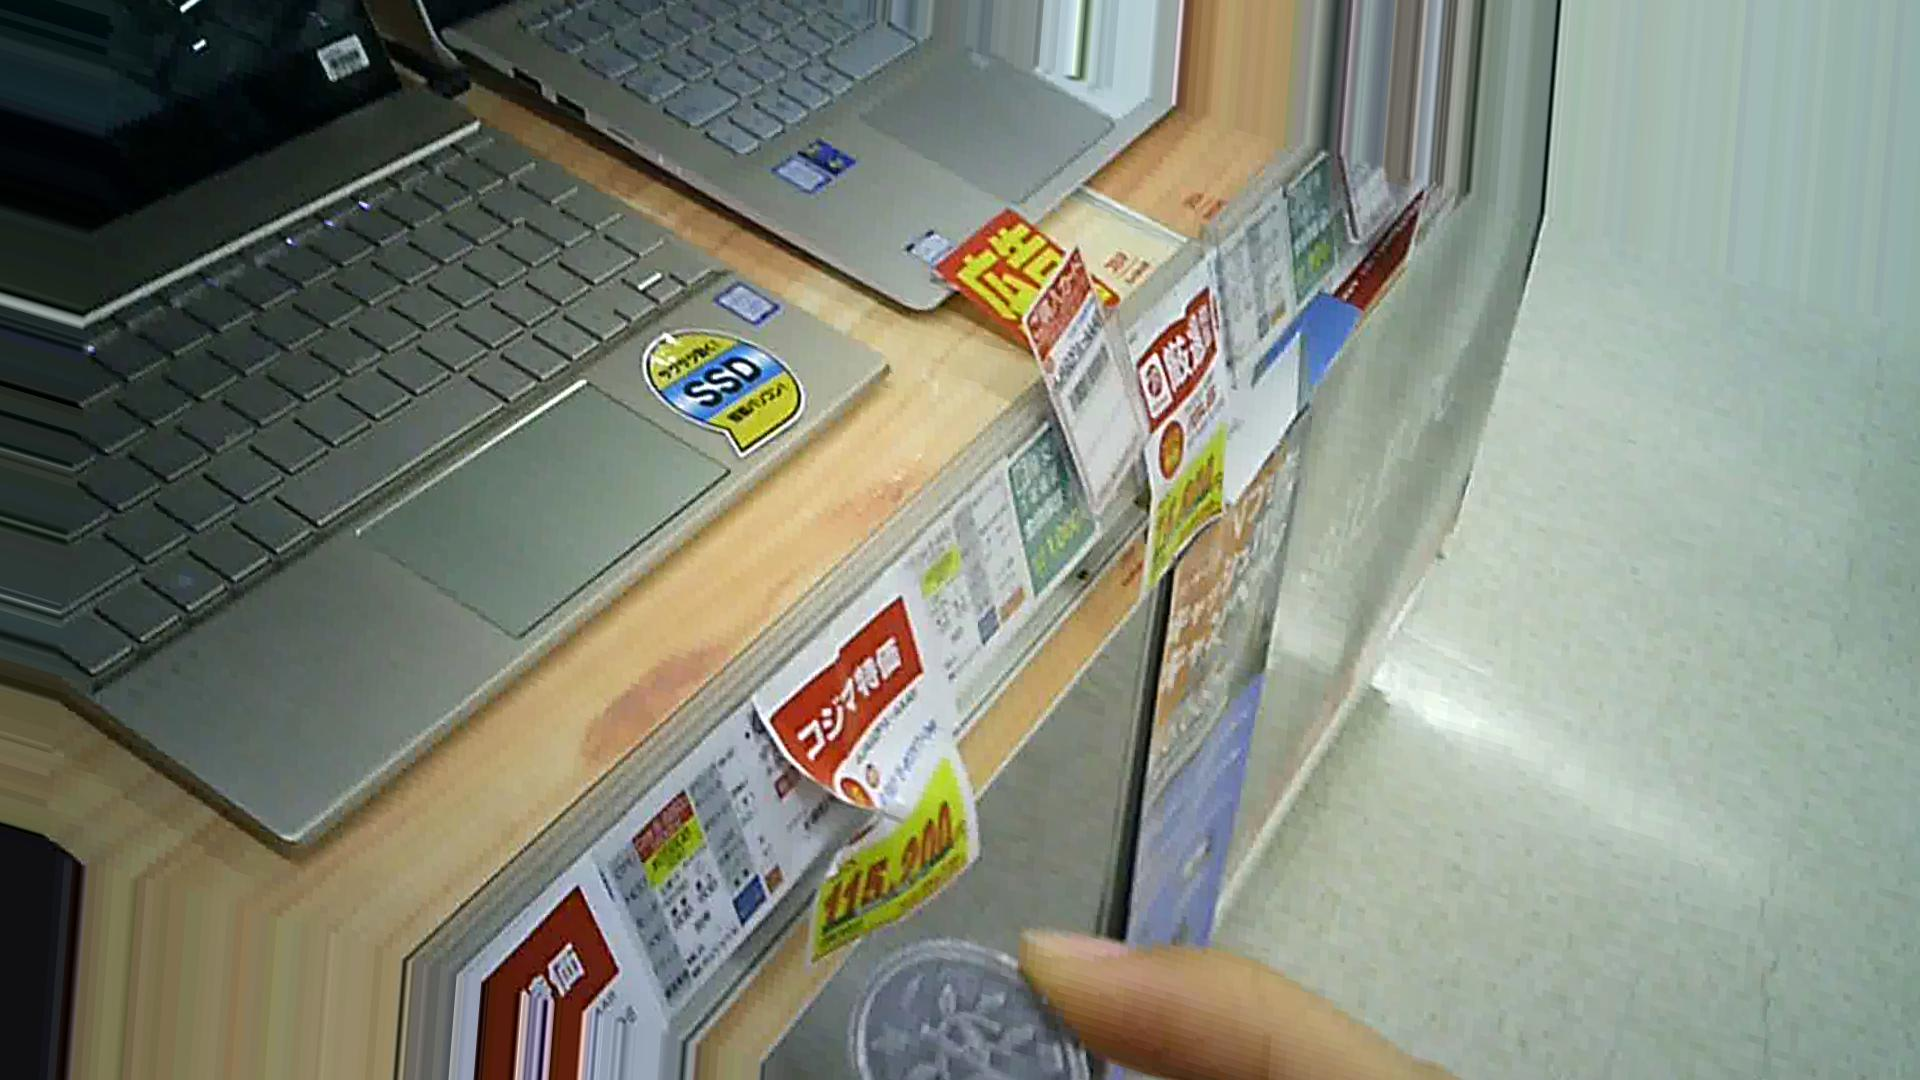1 Yen: (835, 920, 1120, 1079)
